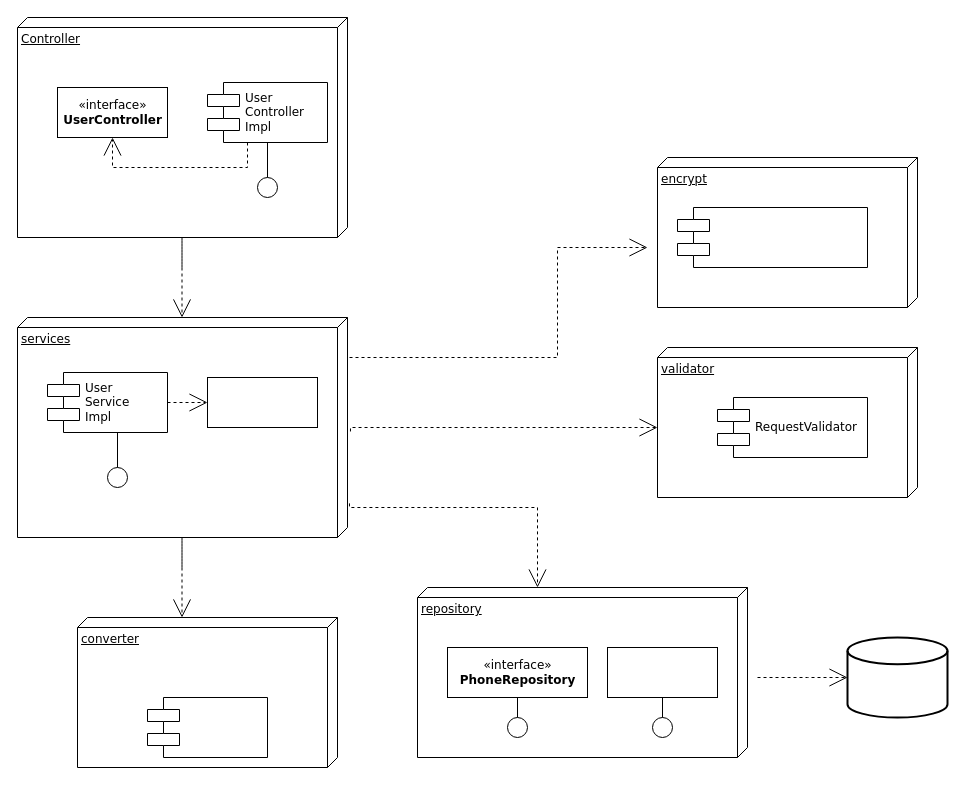
Image size: 966x785. Some labels were removed from this diagram. Here are the shapes that lost their labels. From the top down, the box of each, then its label:
(676, 206, 868, 268): jasyptEncryptorConfig
(206, 376, 318, 428): «interface» UserService
(606, 646, 718, 698): «interface» UserRepository
(846, 636, 948, 718): H2
(146, 696, 268, 758): JwtTokenUtil
